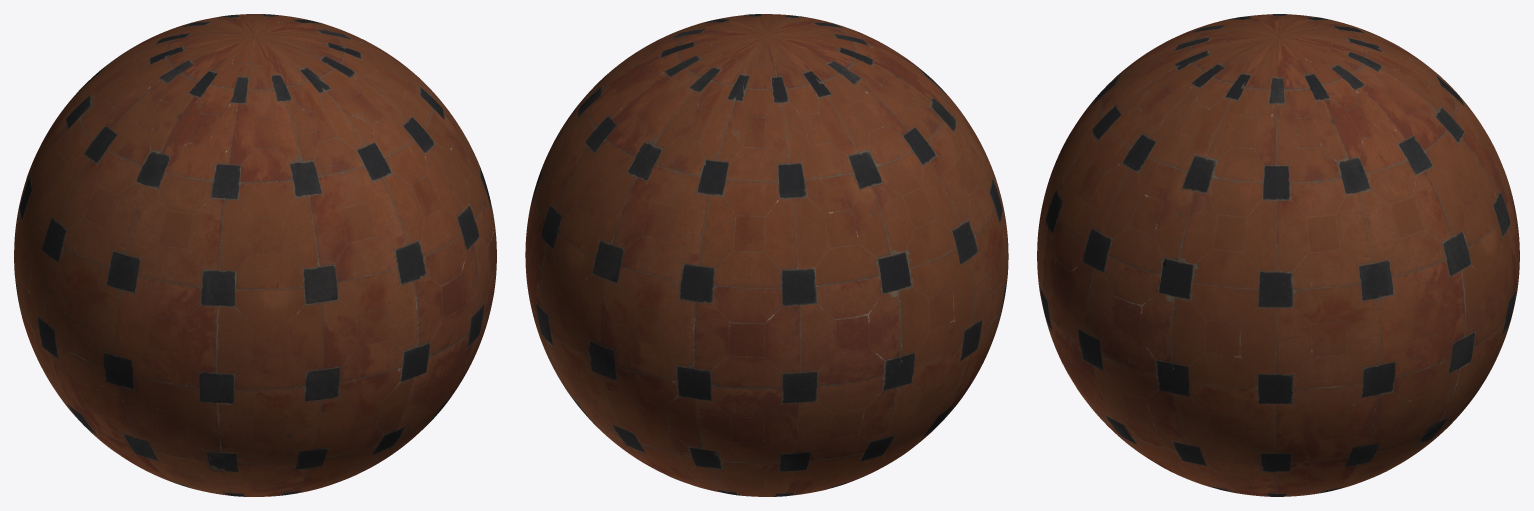
File: patterned_terracotta_tiling_4k.gltf
The picture shows the model from 3 angles, left to right: view 1: azimuth 30°, elevation 25°; view 2: azimuth 150°, elevation 25°; view 3: azimuth 270°, elevation 25°; orthographic projection.
Parts seen in each view (by area): view 1: sphere_gltf; view 2: sphere_gltf; view 3: sphere_gltf.
Boxes of the visible parts, bbox=[...] form: sphere_gltf: bbox=[14, 14, 496, 496]; sphere_gltf: bbox=[525, 14, 1008, 496]; sphere_gltf: bbox=[1037, 14, 1519, 496].
Bounding box in the file's own units: 2.15 × 2.15 × 2.15.
1 material, 1 textured.
